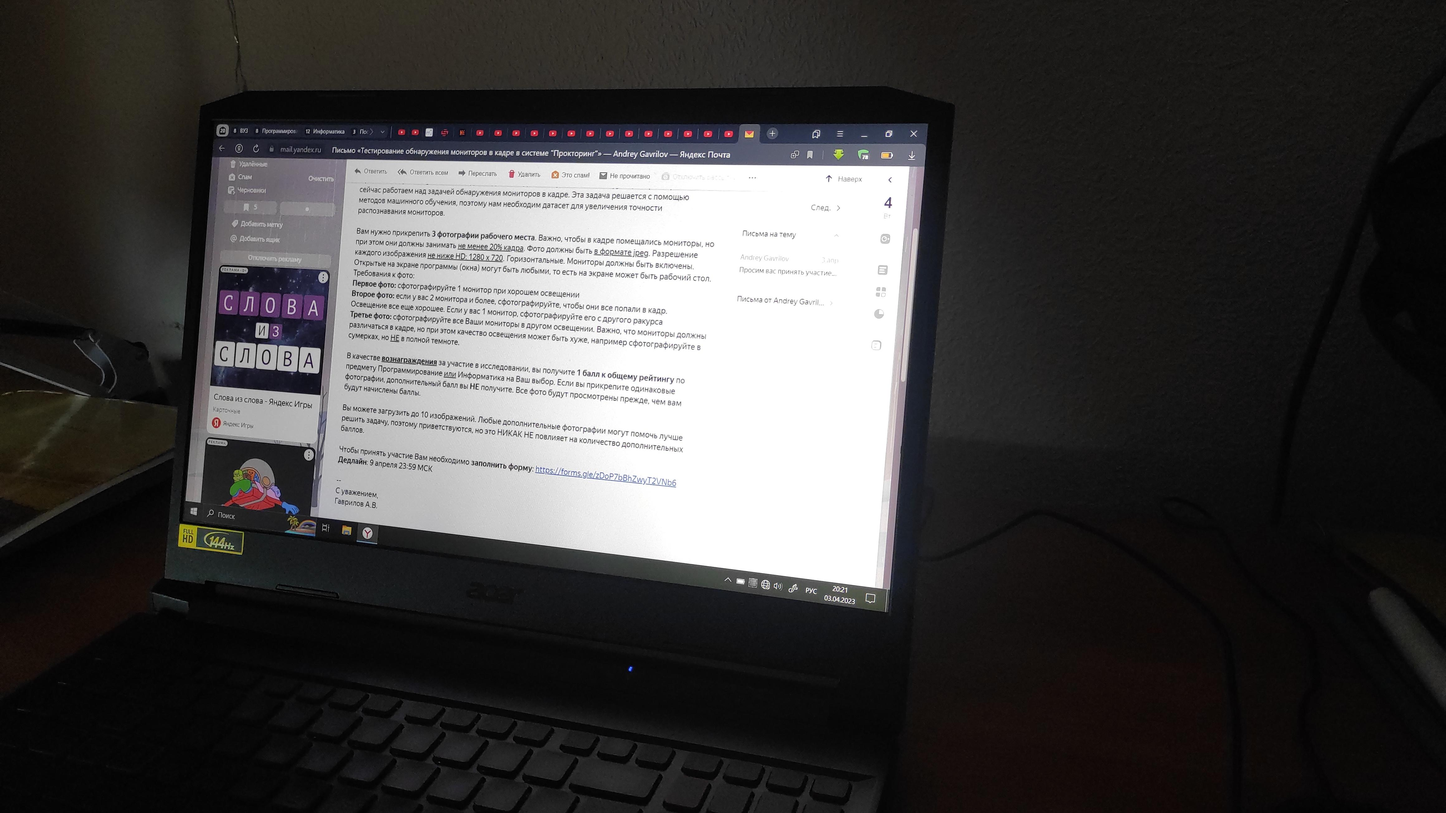monitor: (145, 81, 950, 684), (536, 475, 545, 481)
